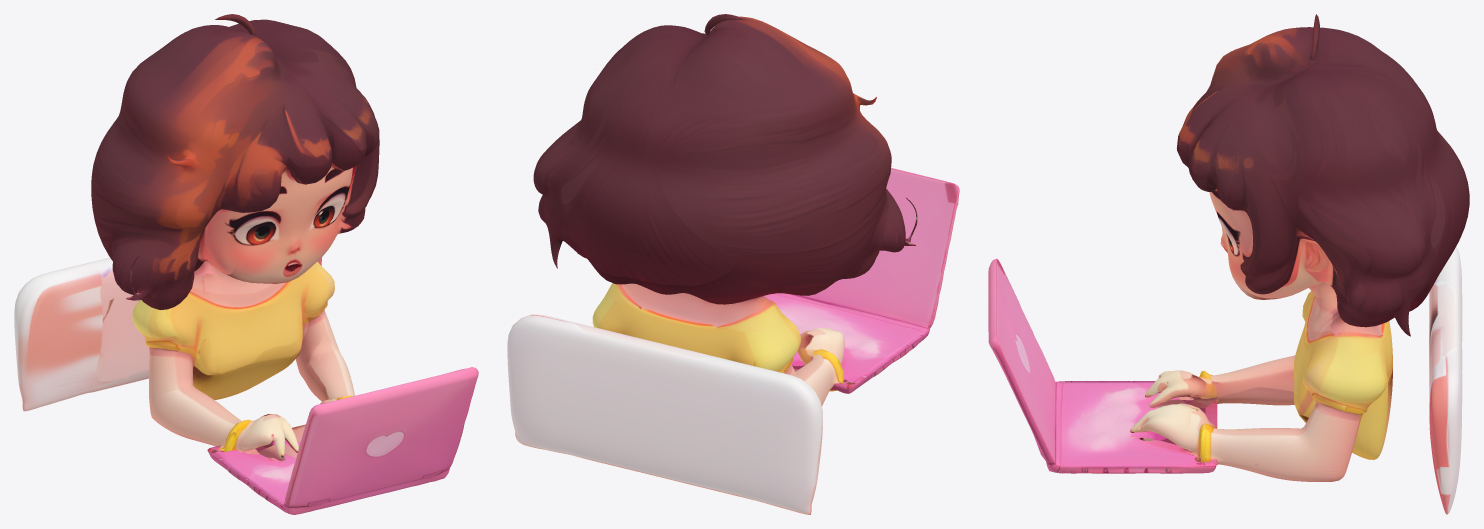
The model's file is base_basic_shaded.glb.
The picture shows the model from 3 angles, left to right: view 1: azimuth 30°, elevation 25°; view 2: azimuth 150°, elevation 25°; view 3: azimuth 270°, elevation 25°; orthographic projection. The views are drawn at different scales.
Parts seen in each view (by area): view 1: model; view 2: model; view 3: model.
Boxes of the visible parts, <box> form: model: <box>14,14,478,514</box>; model: <box>507,14,959,514</box>; model: <box>988,14,1469,514</box>.
Size of the model in its own units: 1.44 by 1.86 by 1.9.
Materials: 1 (1 with a texture image).
